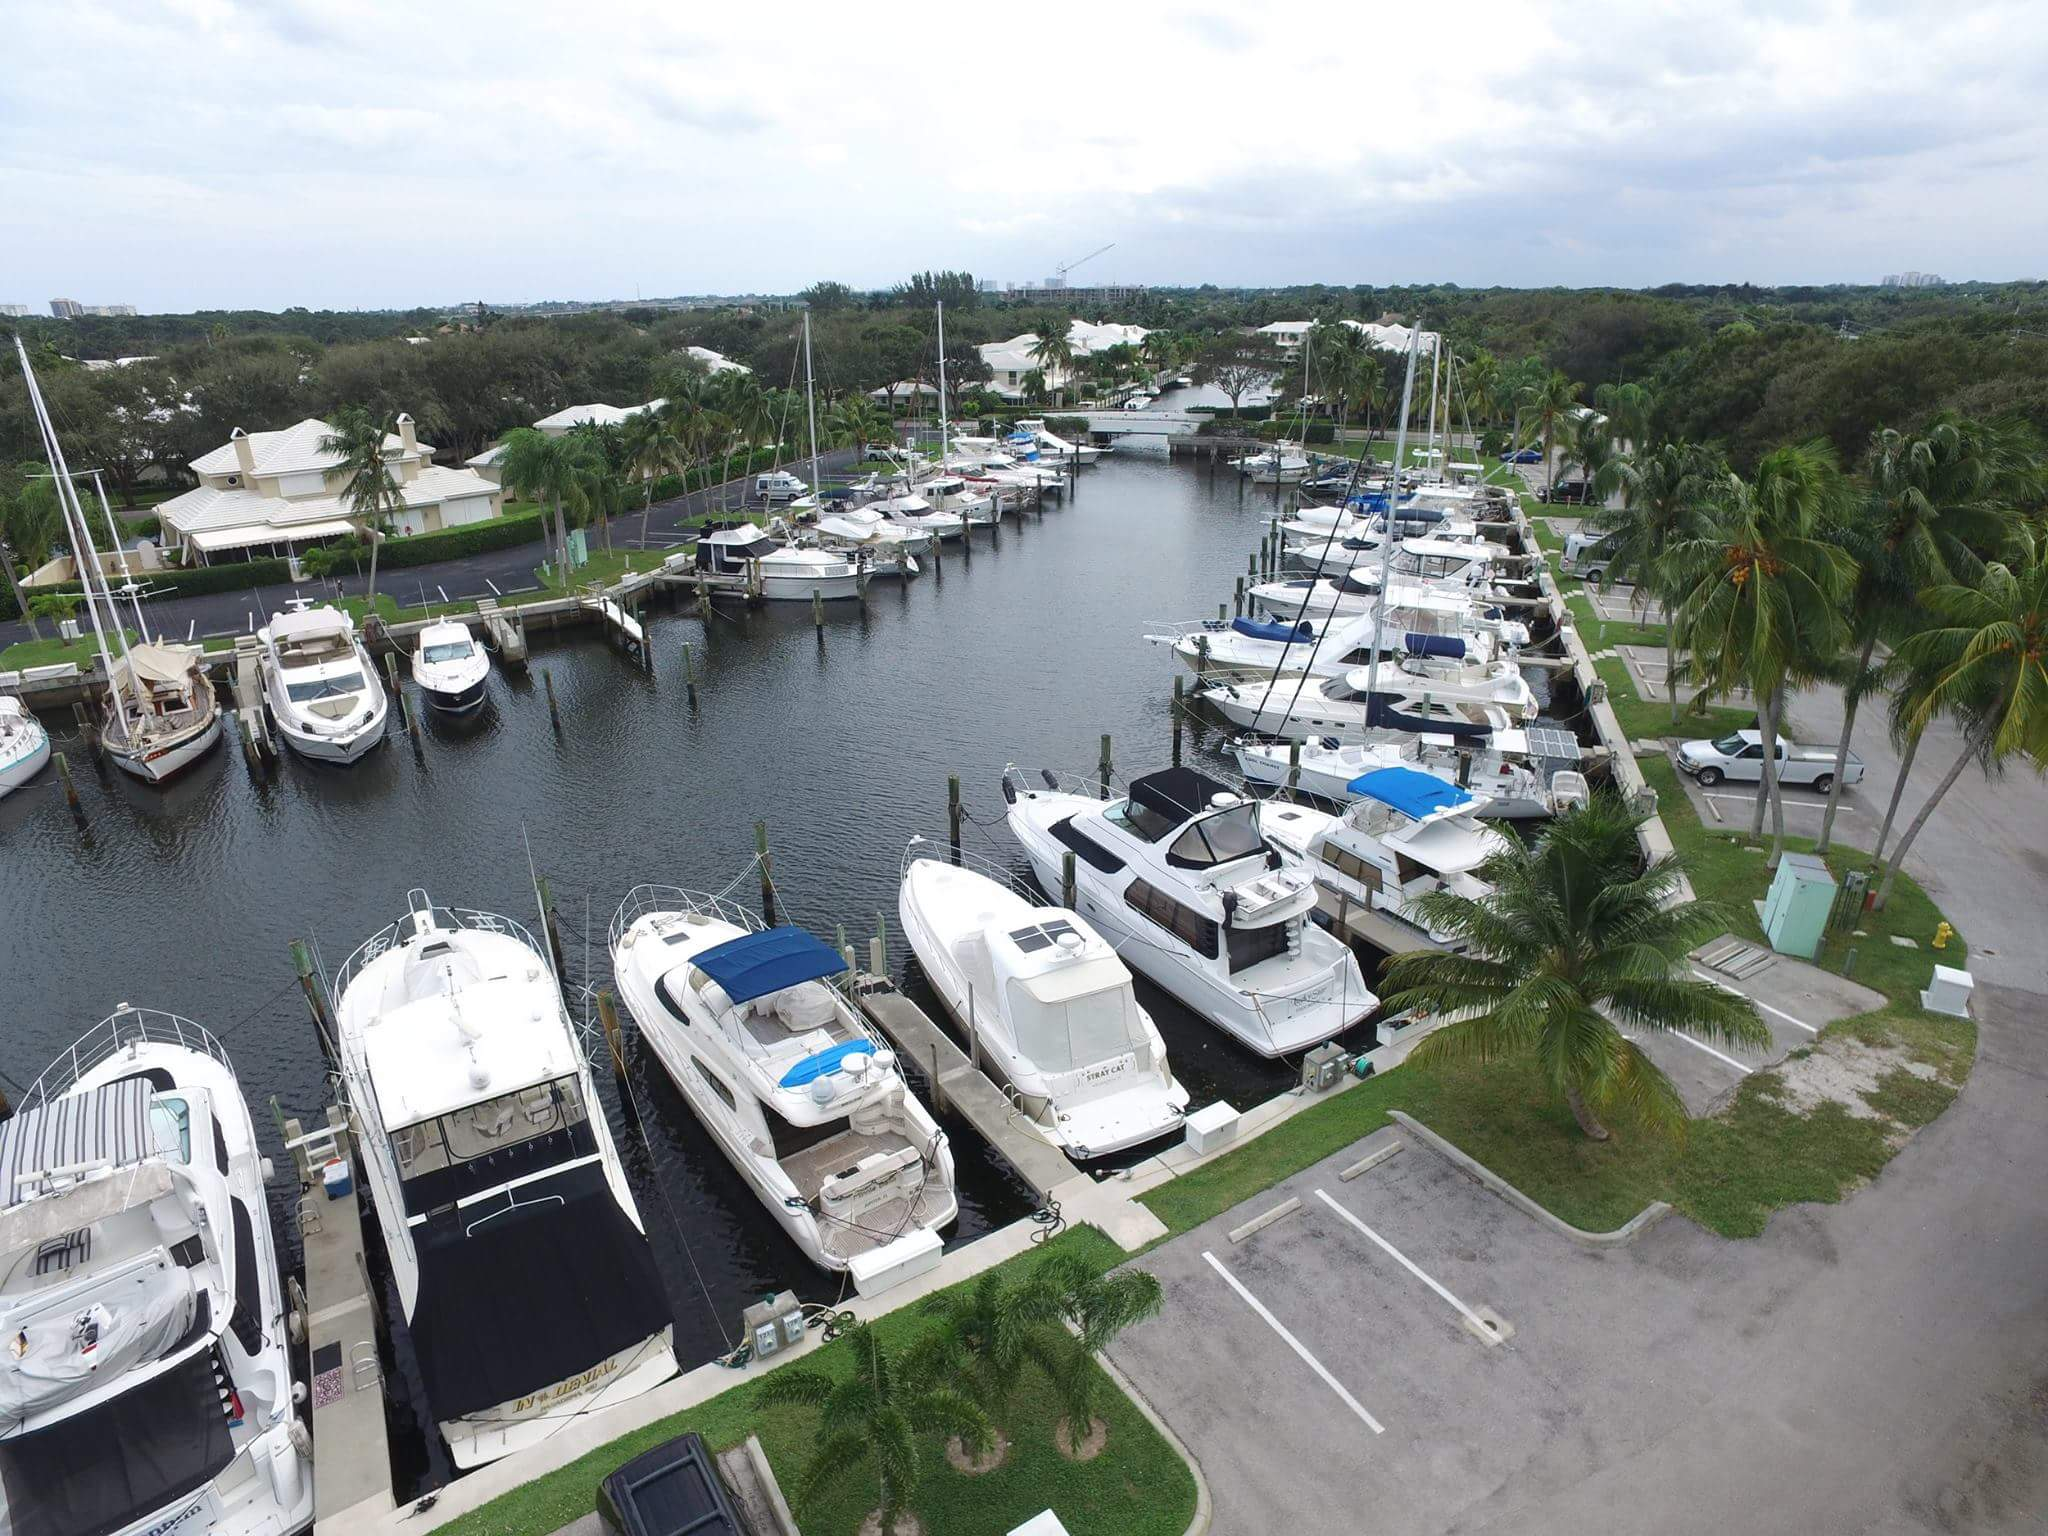empyt_space: (1053, 1241, 1395, 1501), (1187, 1191, 1529, 1442), (1297, 1133, 1643, 1342)
